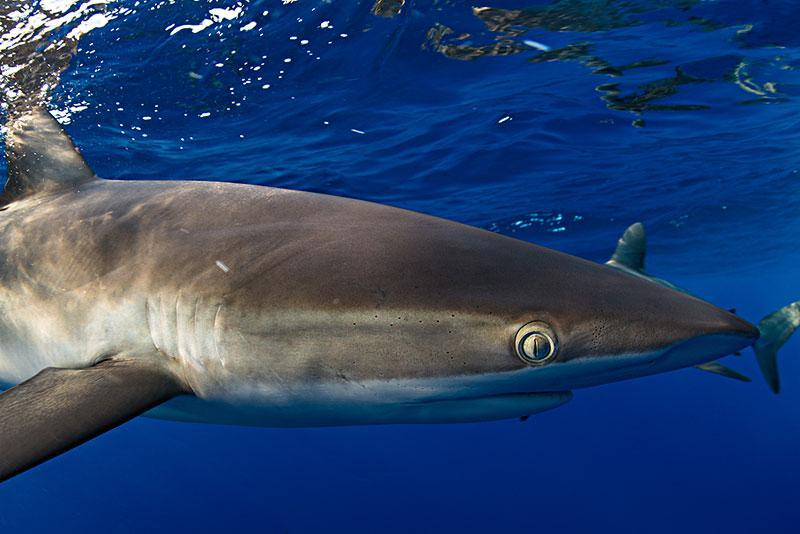fish: (2, 152, 759, 482)
